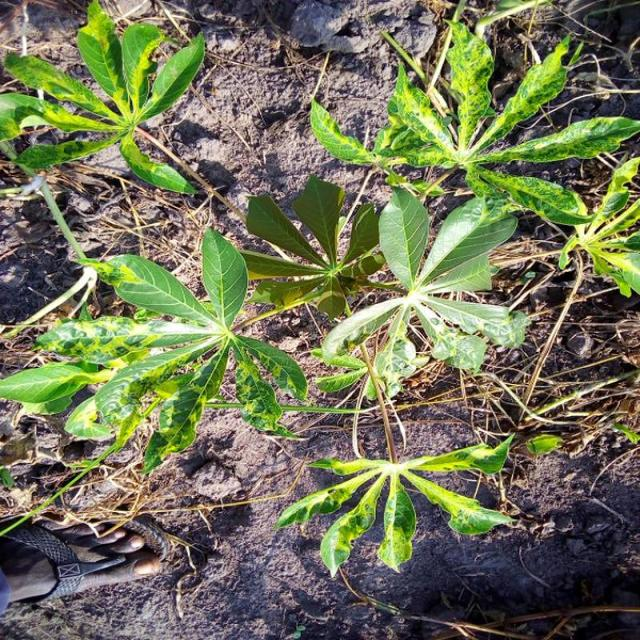cassava leaf: (1, 0, 206, 195)
